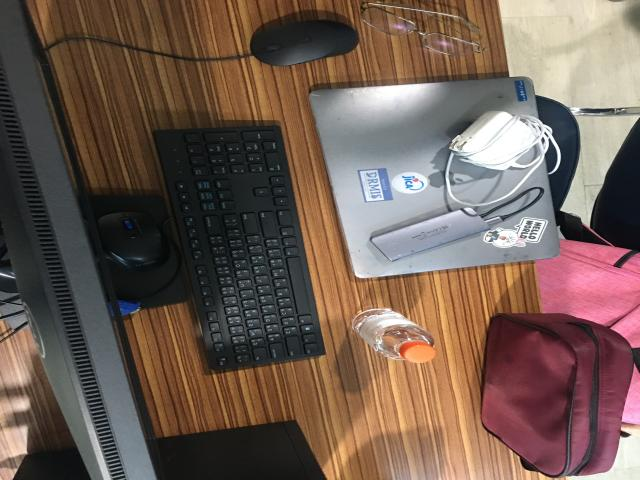Glasses: (362, 2, 487, 56)
Mouse: (250, 20, 358, 66), (98, 212, 170, 271)
bottle: (352, 308, 435, 363)
wire: (445, 111, 560, 206)
